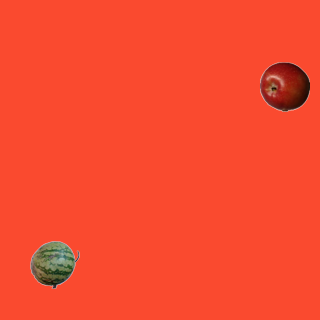Apple Braeburn: (259, 61, 309, 111)
Watermelon: (29, 239, 79, 289)
